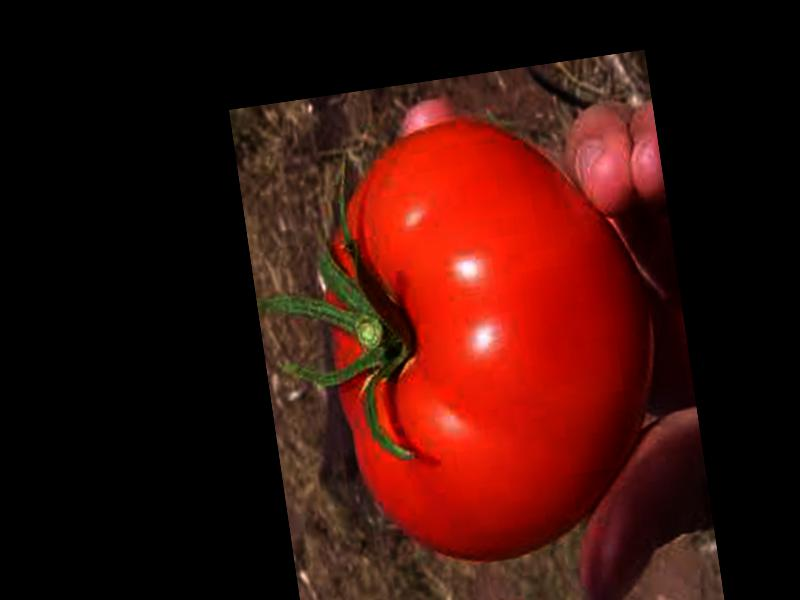Tomato: (302, 98, 679, 579)
